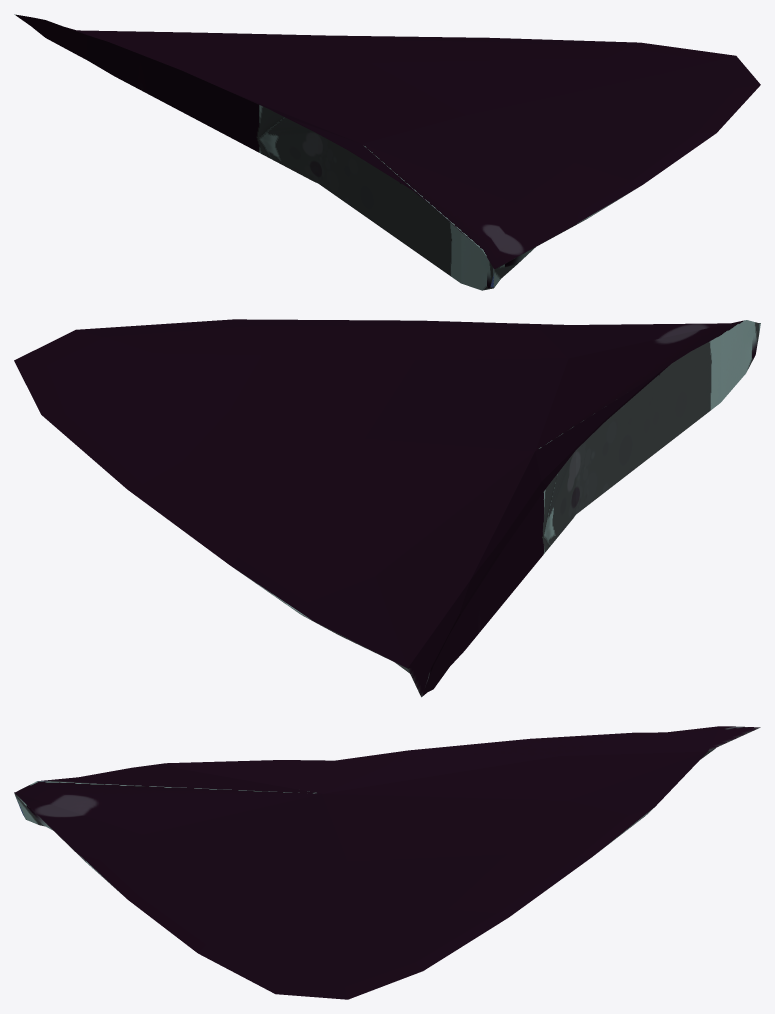
Rendered from left-hand.obj.
The picture shows the model from 3 angles, top to bottom: view 1: azimuth 30°, elevation 25°; view 2: azimuth 150°, elevation 25°; view 3: azimuth 270°, elevation 25°; orthographic projection. The views are drawn at different scales.
Visible parts, largest first — view 1: left-hand; view 2: left-hand; view 3: left-hand.
Boxes of the visible parts, x1=… form: left-hand: x1=14, y1=14, x2=760, y2=290; left-hand: x1=14, y1=319, x2=760, y2=697; left-hand: x1=14, y1=726, x2=760, y2=999.
Bounding box in the file's own units: 8.54 × 0.9968 × 10.6.
Materials: 1 (1 with a texture image).
